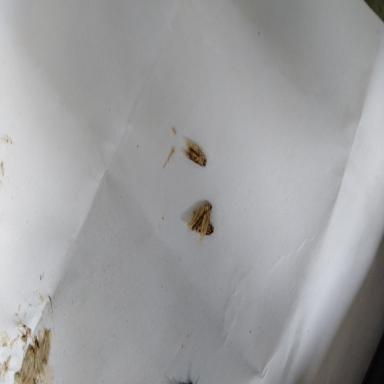pbw: (189, 202, 212, 246), (182, 139, 207, 167), (20, 344, 34, 382), (33, 338, 44, 376), (40, 328, 51, 366)
